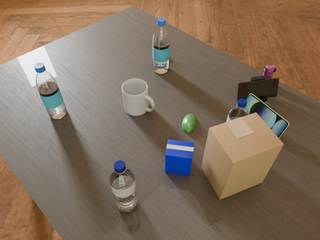bottle: (34, 63, 67, 119), (109, 160, 138, 212), (153, 17, 170, 74), (227, 99, 249, 122)
box: (201, 113, 283, 199), (165, 140, 194, 176)
cup: (122, 79, 155, 116)
mouse: (182, 114, 196, 133)
phone: (246, 93, 289, 138), (237, 78, 279, 101)
toy_car: (263, 65, 276, 79)
